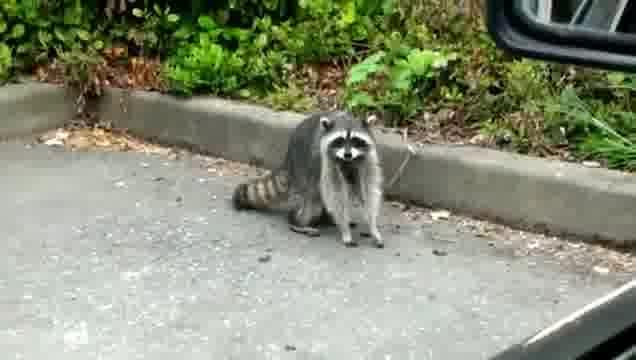raccoon: (233, 112, 385, 247)
